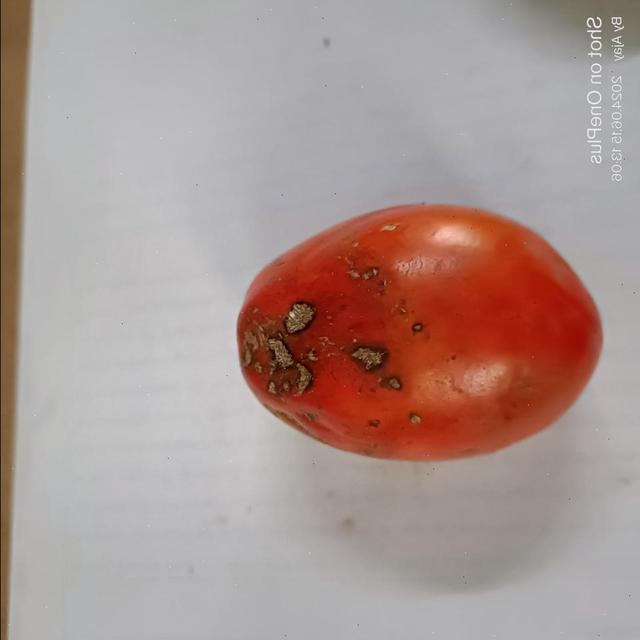Bacterial Spot Fruit: (160, 189, 275, 264)
